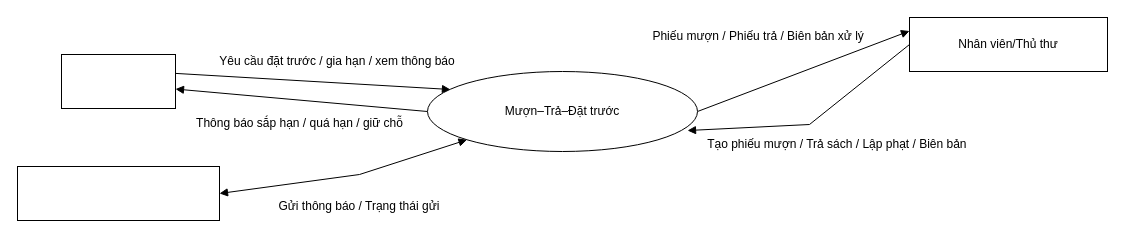
Image size: 1125x238. Some labels were removed from this diagram. The box of each missing label's shape, as (x1, y1, x2, y2) in pixels:
Email/SMS Gateway: (16, 166, 220, 220)
Độc giả: (60, 54, 176, 108)
